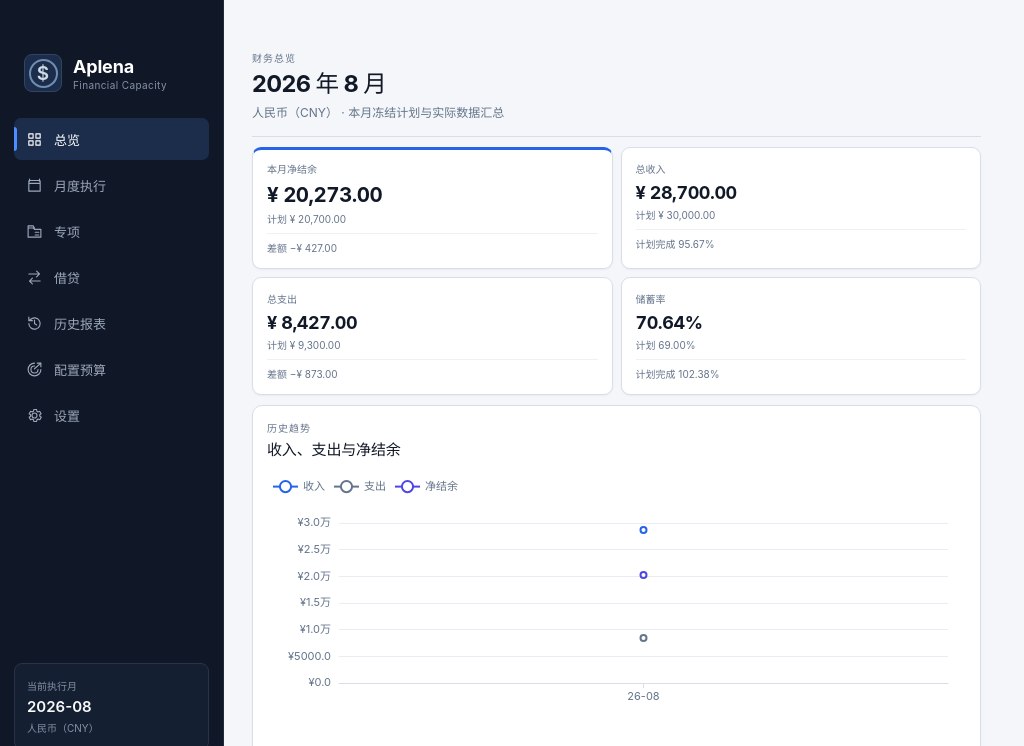
Test: planning workflows › keeps startup check failures quiet but reports the same manual failure
The image size is (1024, 746).
Expected: the heading "2026 年 8 月" is shown, [252,69,386,98]
Click the link "设置": (53, 415) [26,406,80,424]
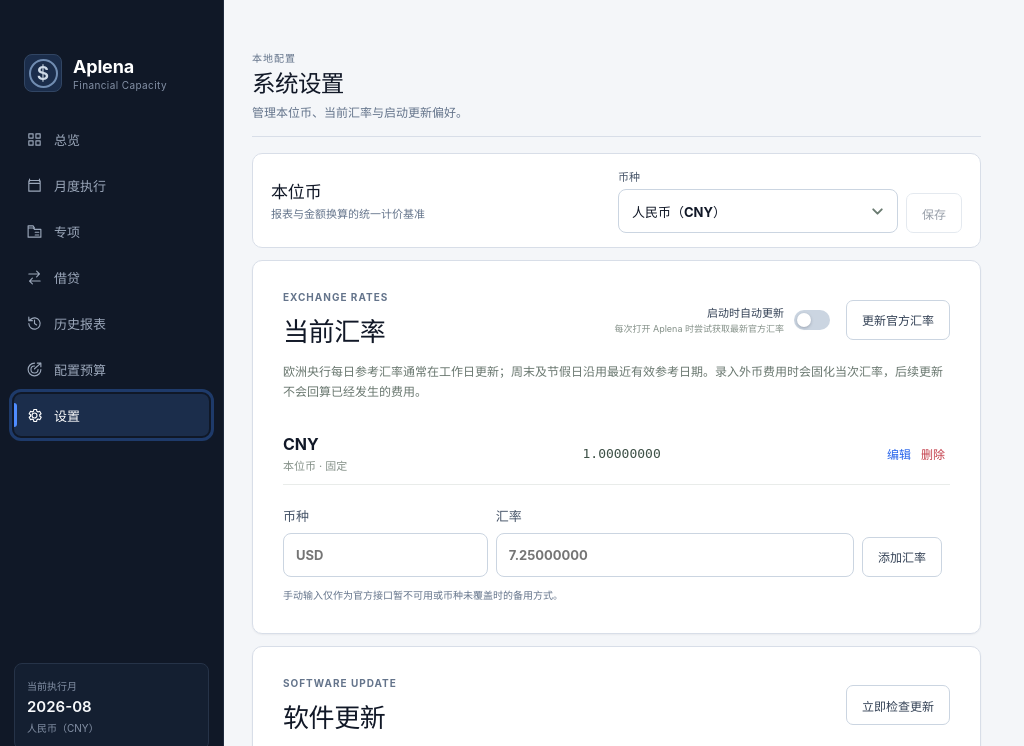
Click the button "立即检查更新": (898, 705) [846,685,950,725]
(page scrolled)
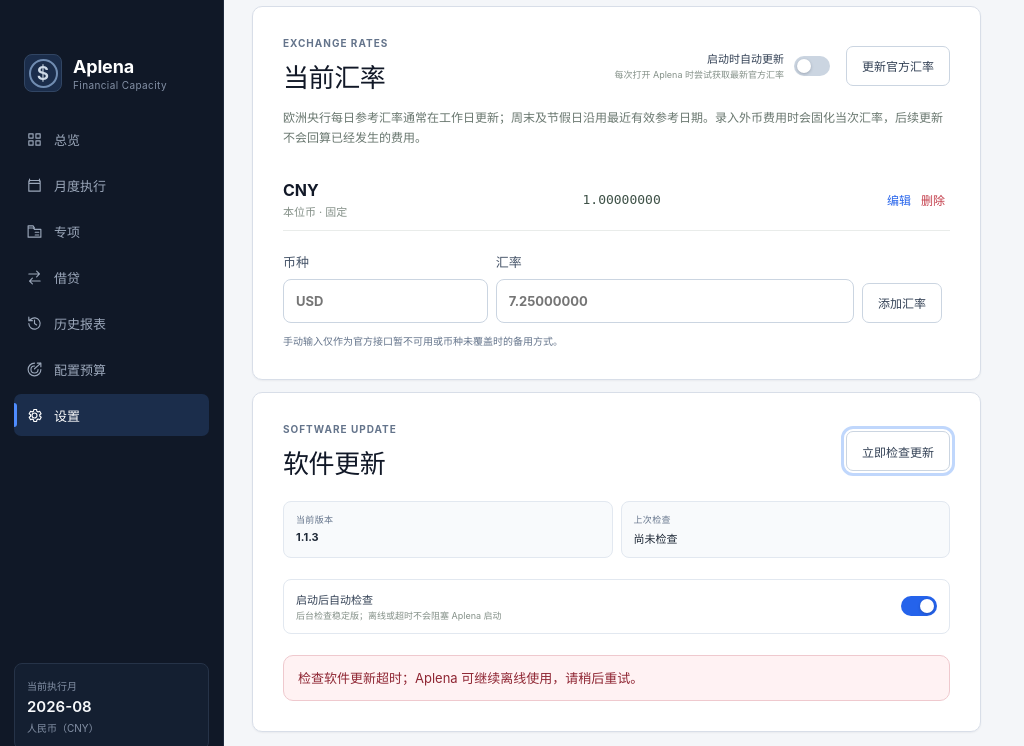
Expected: the message shows "检查软件更新超时", [298,670,643,686]
